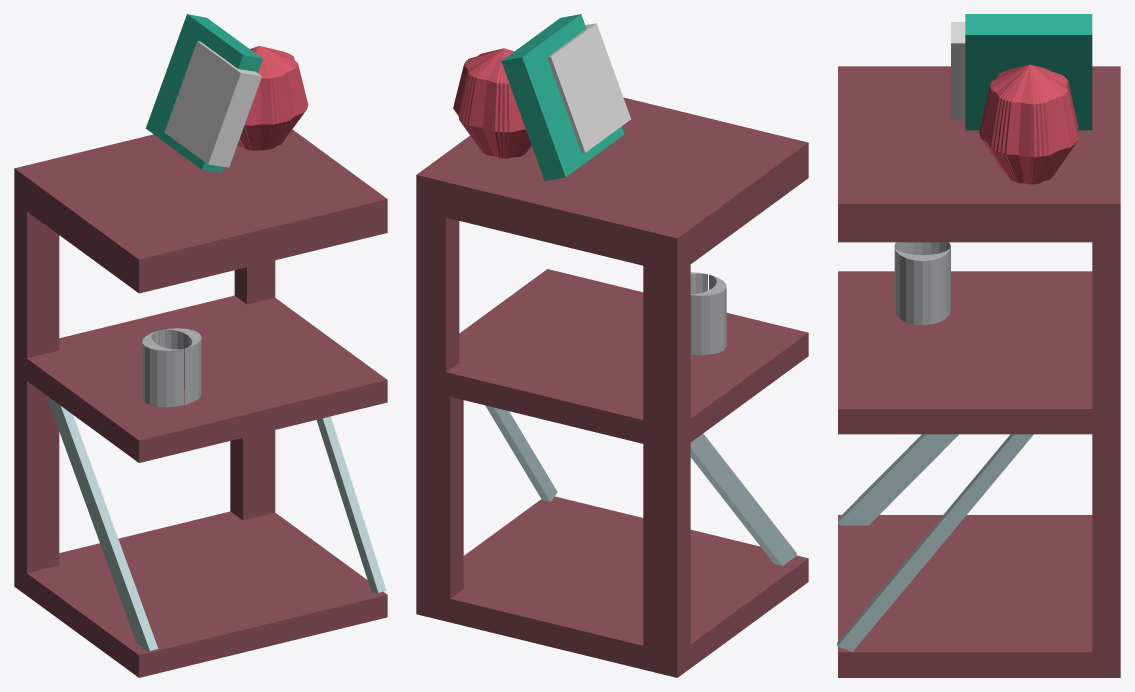
The model's file is Side Tabel Design 1.glb.
3 views of the same model, side by side, from view 1: azimuth 30°, elevation 25°; view 2: azimuth 150°, elevation 25°; view 3: azimuth 270°, elevation 25° (orthographic). The views are drawn at different scales.
Parts seen in each view (by area): view 1: Mesh_Mesh_head_geo.001_lambert2SG.001; view 2: Mesh_Mesh_head_geo.001_lambert2SG.001; view 3: Mesh_Mesh_head_geo.001_lambert2SG.001.
Boxes of the visible parts, x1,y1,x2,y2 form: Mesh_Mesh_head_geo.001_lambert2SG.001: [14, 14, 387, 677]; Mesh_Mesh_head_geo.001_lambert2SG.001: [416, 14, 808, 677]; Mesh_Mesh_head_geo.001_lambert2SG.001: [837, 14, 1120, 677].
Bounding box in the file's own units: 23 × 48 × 20.05.
